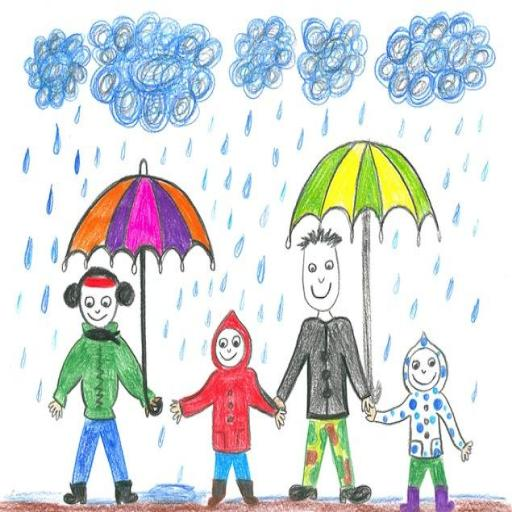person: (43, 263, 161, 509), (280, 225, 374, 502), (171, 309, 286, 510), (370, 330, 474, 510)
